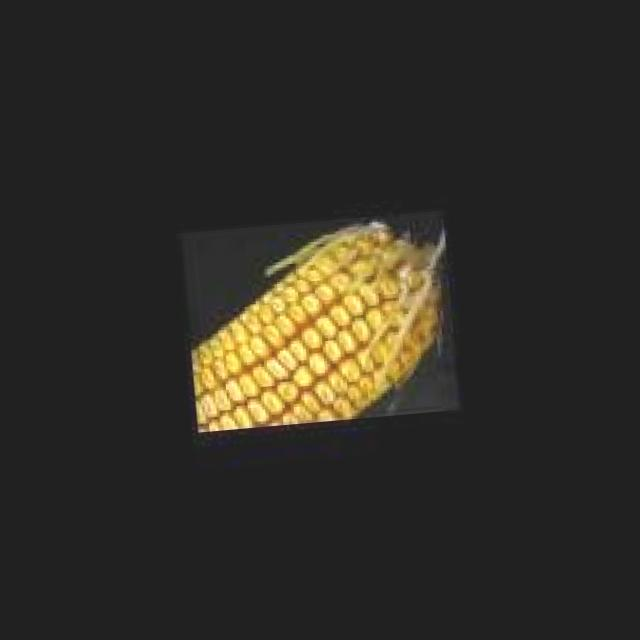corn: (193, 219, 442, 428)
